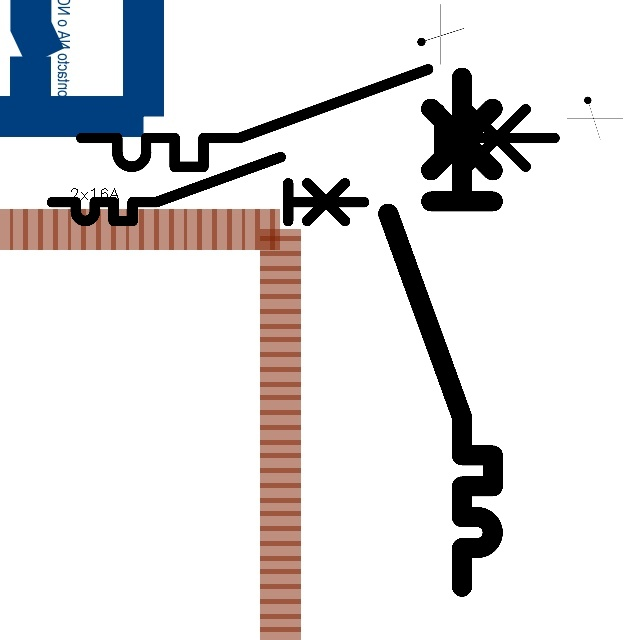interruptor_termomagnetico: (375, 64, 506, 600), (69, 57, 567, 179), (44, 149, 372, 229)
